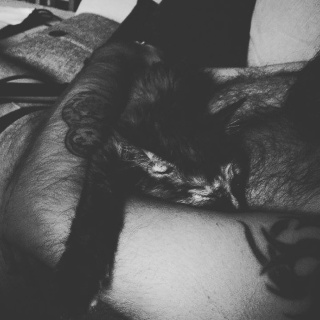Cat: (36, 47, 251, 319)
